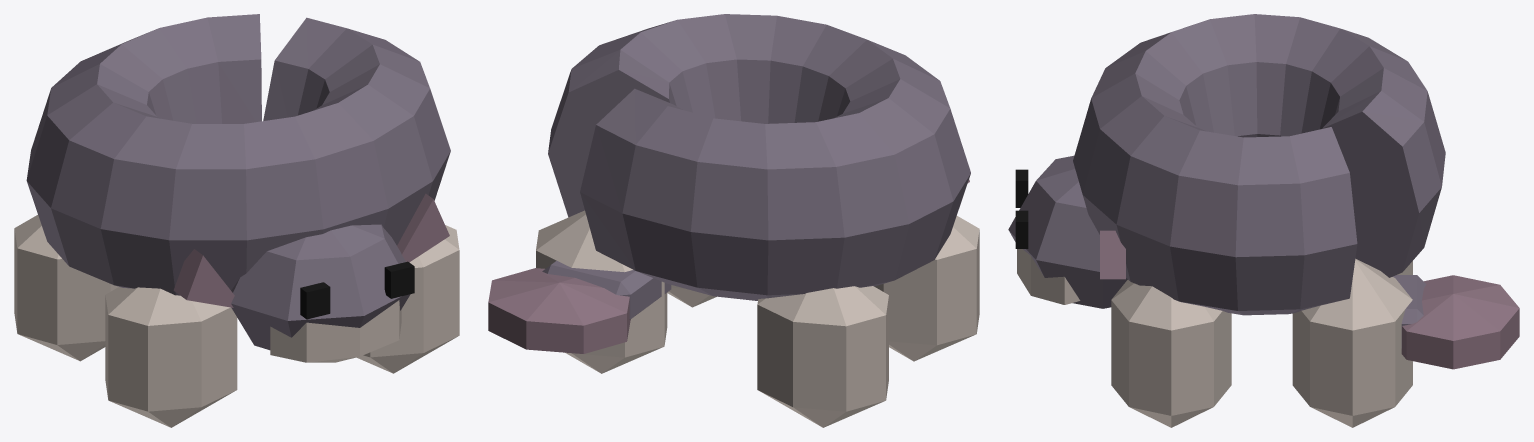
Rendered from hushpip.glb.
The picture shows the model from 3 angles, left to right: view 1: azimuth 30°, elevation 25°; view 2: azimuth 150°, elevation 25°; view 3: azimuth 270°, elevation 25°; orthographic projection.
Visible parts, largest first — view 1: Hushpip; view 2: Hushpip; view 3: Hushpip.
Part boxes in pixels (<box>): Hushpip: <box>14,14,459,427</box>; Hushpip: <box>488,14,979,427</box>; Hushpip: <box>1008,14,1519,427</box>.
Size of the model in its own units: 0.48 by 0.36 by 0.56.
